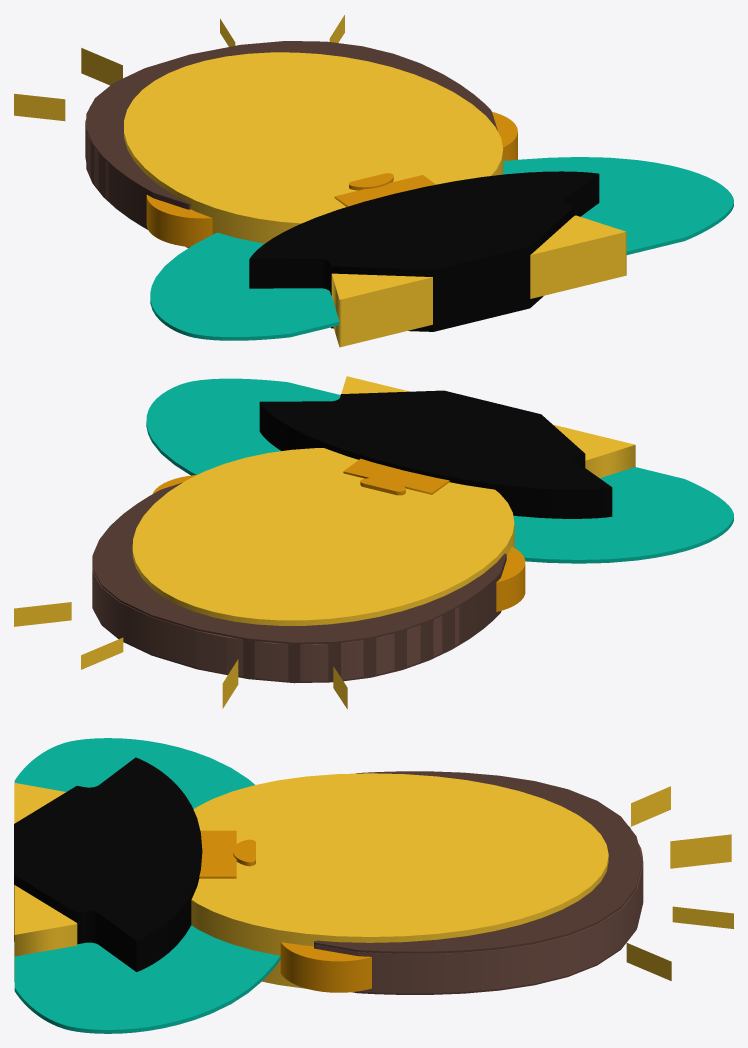
File: emoji_u1f647_200d_2642.glb
3 views of the same model, one above another, from view 1: azimuth 30°, elevation 25°; view 2: azimuth 150°, elevation 25°; view 3: azimuth 270°, elevation 25° (orthographic). The views are drawn at different scales.
Parts seen in each view (by area): view 1: emoji_u1f647_200d_2642; view 2: emoji_u1f647_200d_2642; view 3: emoji_u1f647_200d_2642.
Boxes of the visible parts, x1,y1,x2,y2 form: emoji_u1f647_200d_2642: (14, 15, 733, 347); emoji_u1f647_200d_2642: (14, 376, 733, 709); emoji_u1f647_200d_2642: (14, 738, 733, 1033).
Size of the model in its own units: 0.0319 by 0.0034 by 0.0332.
